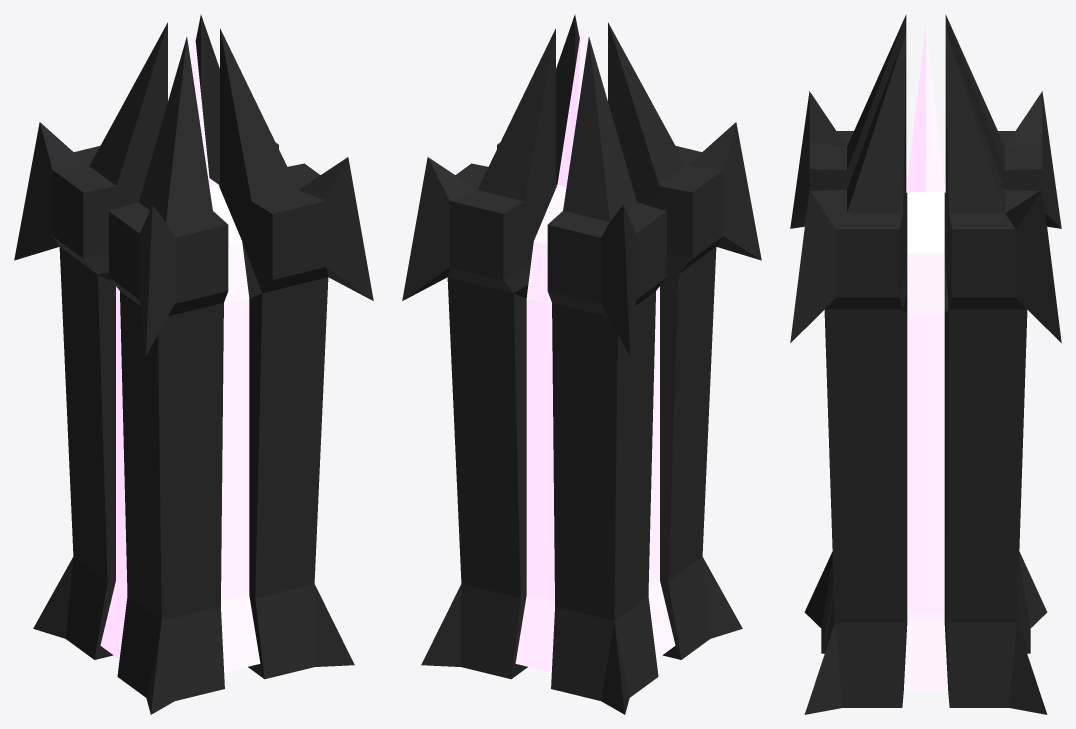
File: cube_L_ Underworld.fbx
The picture shows the model from 3 angles, left to right: view 1: azimuth 30°, elevation 25°; view 2: azimuth 150°, elevation 25°; view 3: azimuth 270°, elevation 25°; orthographic projection. The views are drawn at different scales.
Parts seen in each view (by area): view 1: Cube; view 2: Cube; view 3: Cube.
Part boxes in pixels (x1,y1,x2,y2): Cube: [14, 15, 373, 714]; Cube: [402, 15, 761, 714]; Cube: [790, 14, 1061, 714].
Size of the model in its own units: 311 by 811 by 311.
